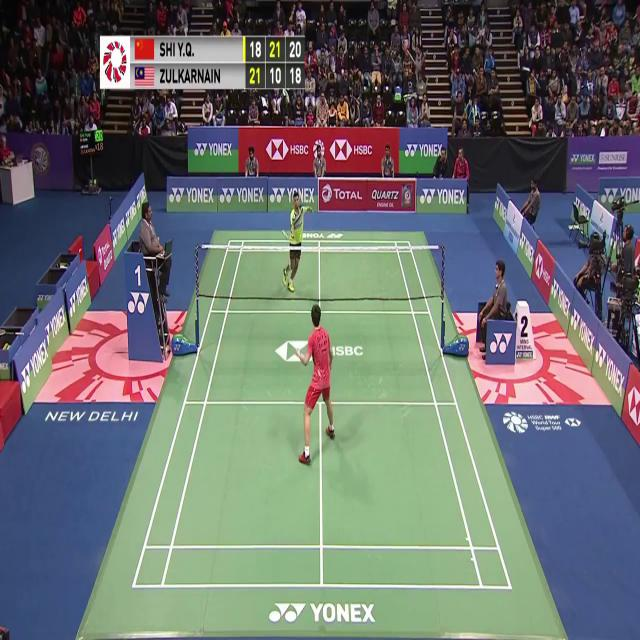Shuttlecock: (290, 210, 296, 222)
